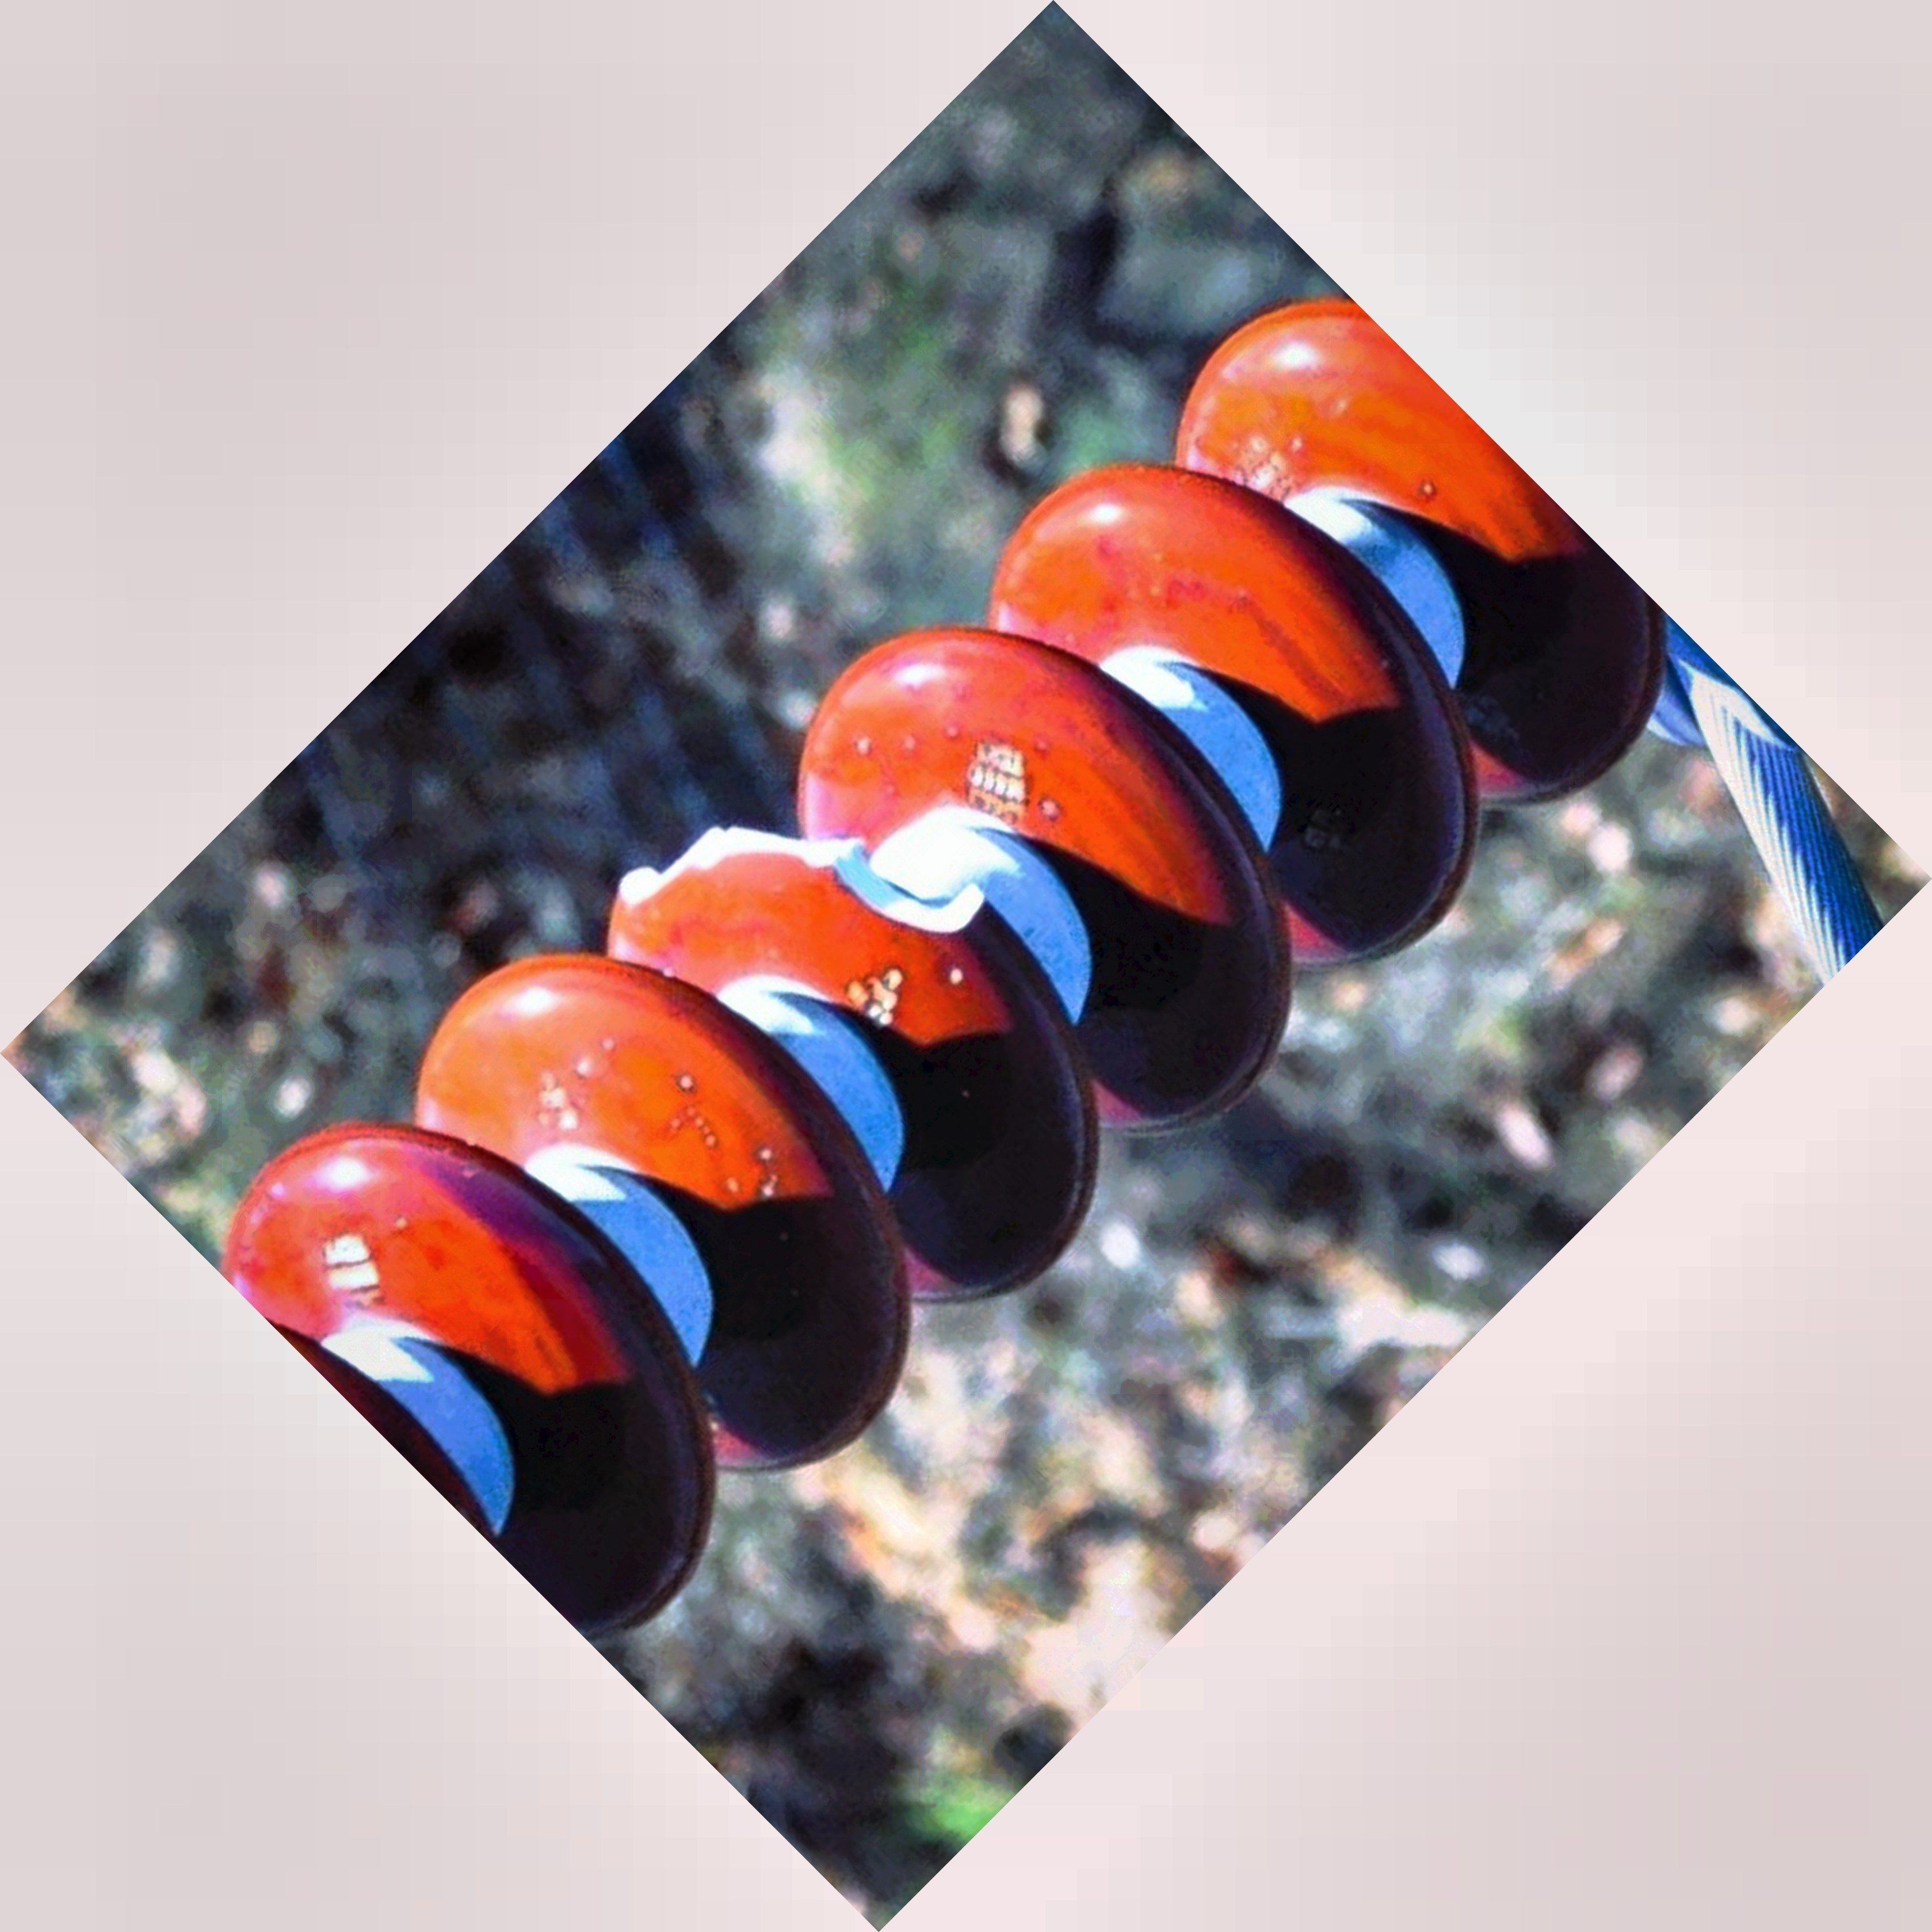insulator breakage: (586, 800, 1116, 1315)
